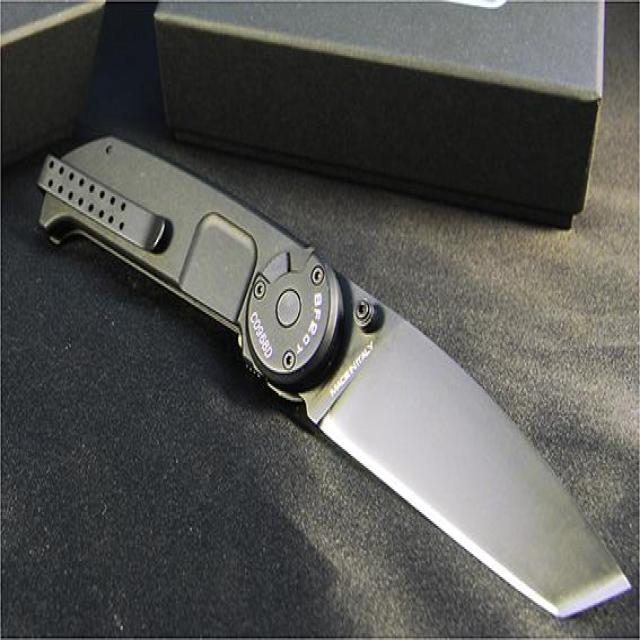knife: (34, 114, 635, 630)
